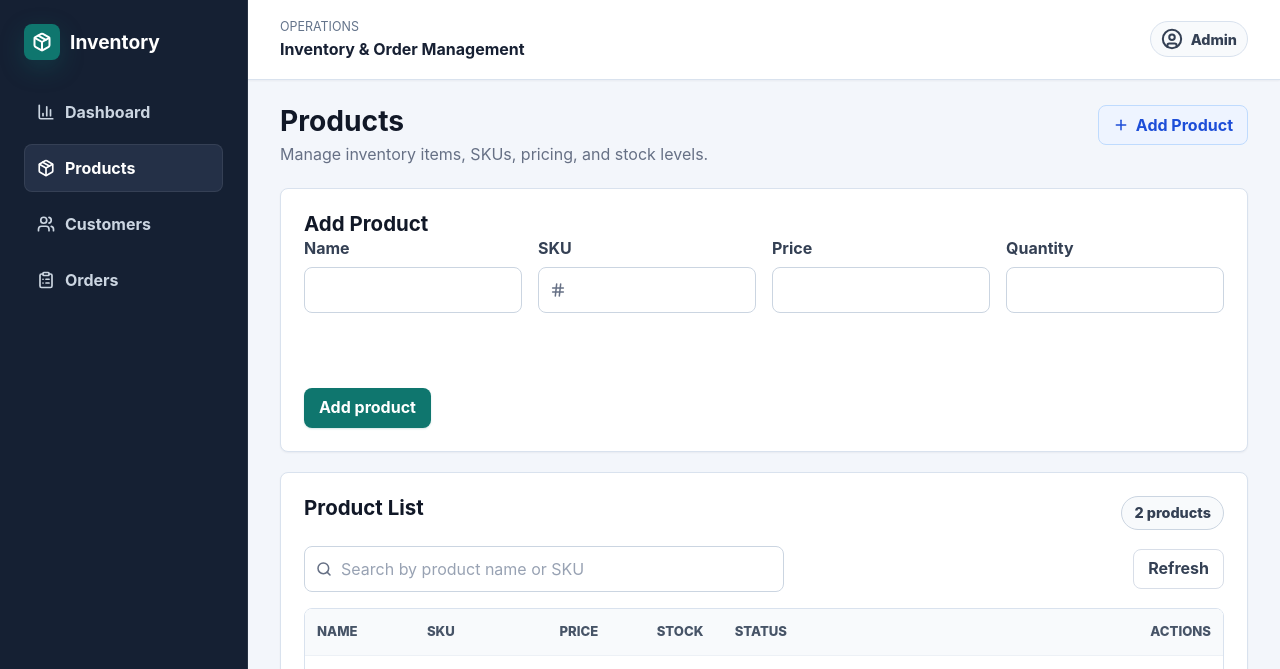
Test: frontend flows › product form validates required fields
Click the button "Add product" at (367, 408), box [304,388,431,428]
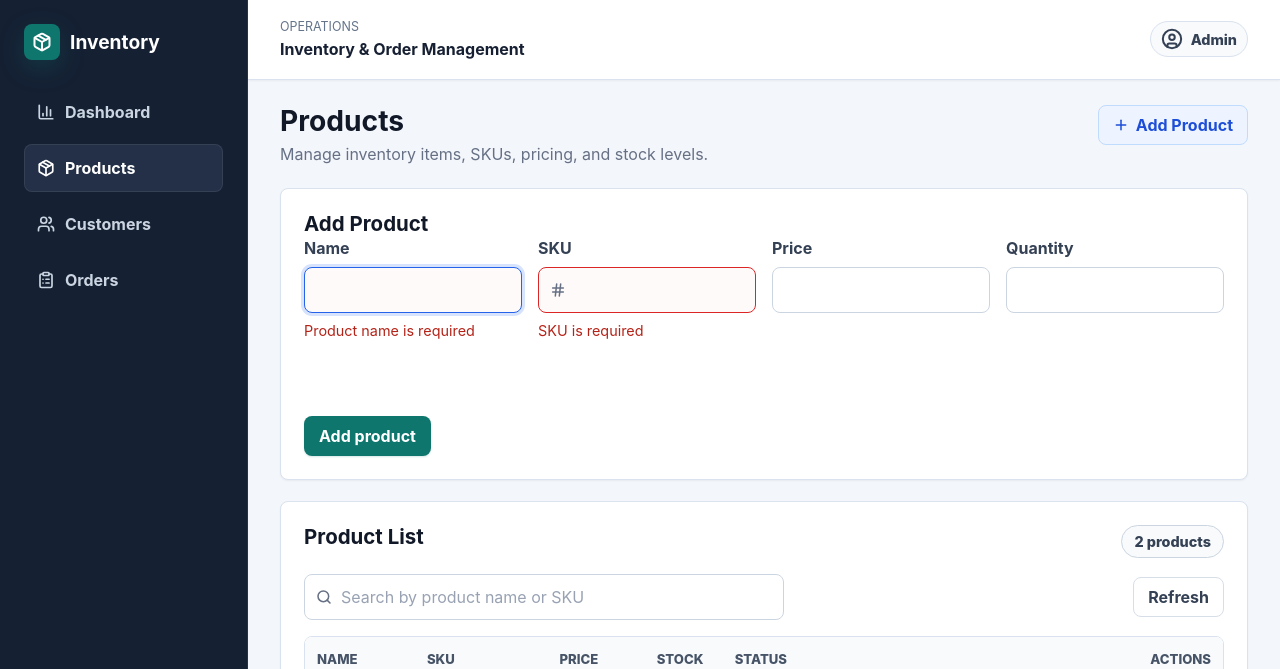
Check: the text "Product name is required" is shown, box [304,322,475,339]
Check: the text "SKU is required" is shown, box [538,322,644,339]
